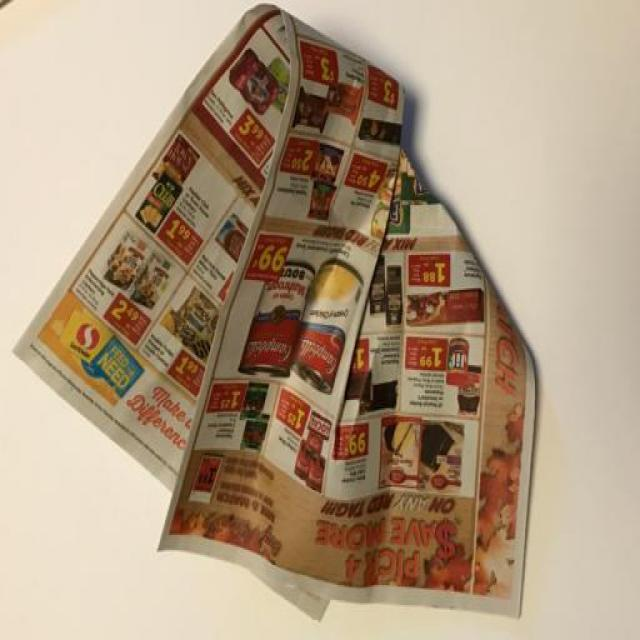paper: (10, 7, 547, 640)
